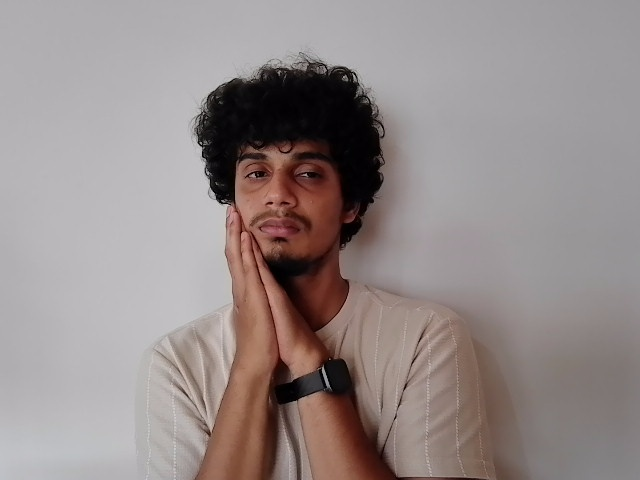sleep: (224, 200, 325, 361)
